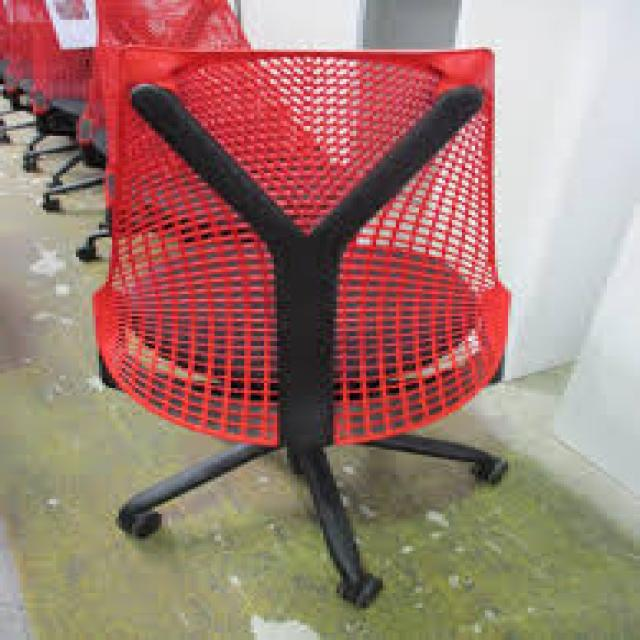chair: (29, 38, 636, 618), (64, 0, 285, 197), (0, 0, 68, 104)
